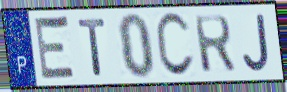0: (114, 12, 158, 81)
C: (153, 10, 196, 80)
E: (33, 14, 78, 83)
J: (241, 12, 272, 74)
R: (192, 13, 238, 75)
T: (77, 16, 109, 78)
